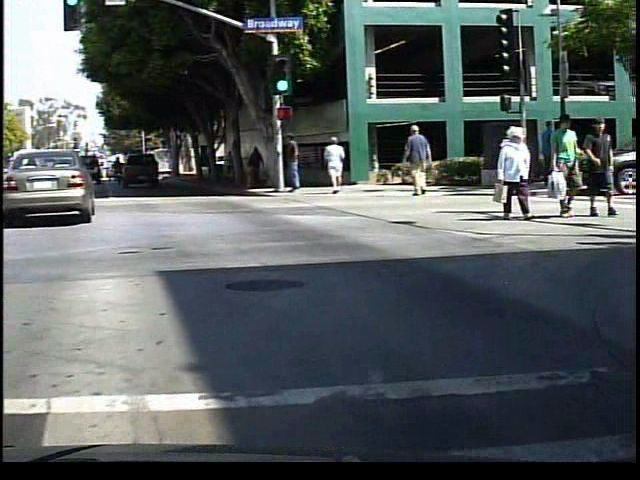person: (494, 124, 544, 222), (551, 114, 587, 220), (587, 115, 622, 218), (405, 124, 441, 197), (540, 114, 566, 189), (289, 129, 314, 200), (327, 134, 353, 197), (253, 141, 273, 191), (236, 146, 251, 190)
